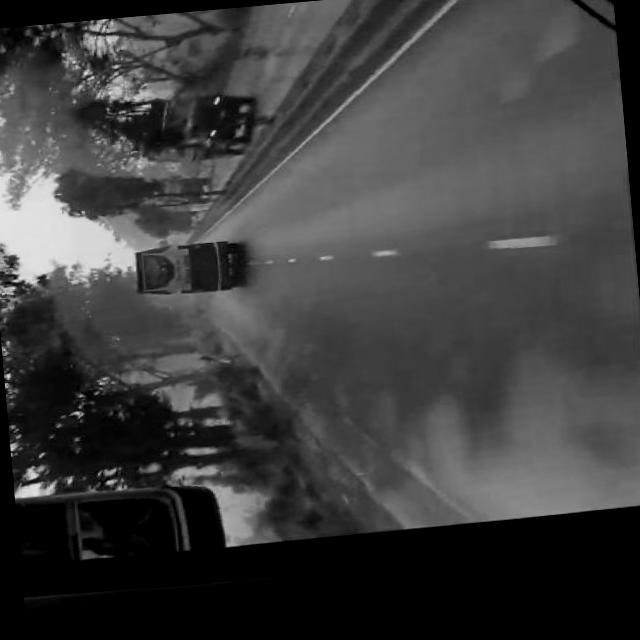bus: (130, 239, 236, 299)
truck: (136, 91, 254, 167), (149, 172, 207, 208)
